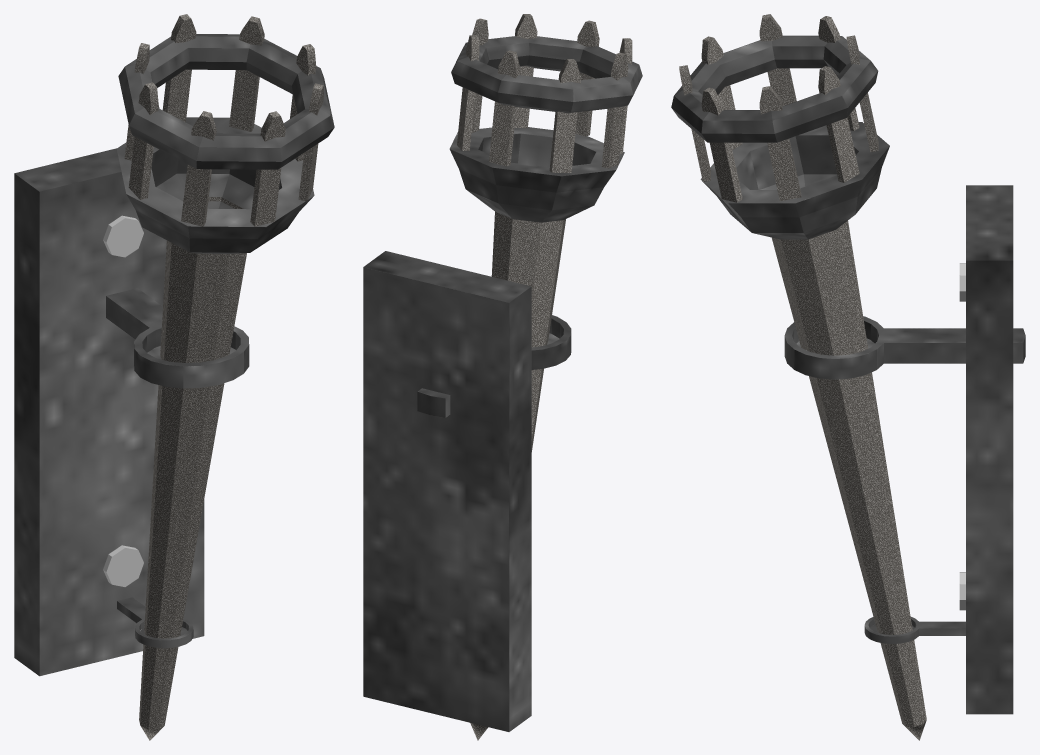
File: torch.fbx
3 views of the same model, side by side, from view 1: azimuth 30°, elevation 25°; view 2: azimuth 150°, elevation 25°; view 3: azimuth 270°, elevation 25° (orthographic). The views are drawn at different scales.
Parts seen in each view (by area): view 1: pCube19, pCylinder8, pTorus2, pCylinder9, pCube23, pCube24, pCube17, pCube25, pCube21, pCylinder11, pCylinder10, pCylinder12 (+3 smaller); view 2: pCube19, pCylinder8, pTorus2, pCylinder9, pCube21, pCube20, pCube25, pCube23, pCube17, pCube22, pCube18; view 3: pCylinder8, pCube19, pTorus2, pCylinder9, pCube18, pCube23, pCube22, pCylinder11, pCube25, pCube21, pCube24, pCube17 (+1 smaller).
Part boxes in pixels (bbox=[...]): pCube19: bbox=[14, 148, 204, 676]; pCylinder8: bbox=[116, 117, 314, 740]; pTorus2: bbox=[118, 34, 334, 169]; pCylinder9: bbox=[106, 288, 249, 388]; pCube23: bbox=[229, 16, 264, 131]; pCube24: bbox=[181, 111, 216, 226]; pCube17: bbox=[250, 111, 285, 226]; pCube25: bbox=[128, 82, 158, 199]; pCube21: bbox=[162, 14, 196, 122]; pCylinder11: bbox=[117, 597, 193, 648]; pCylinder10: bbox=[103, 215, 143, 257]; pCylinder12: bbox=[103, 545, 143, 586]; pCube19: bbox=[363, 251, 531, 731]; pCylinder8: bbox=[449, 127, 624, 740]; pTorus2: bbox=[451, 36, 642, 113]; pCylinder9: bbox=[417, 315, 571, 417]; pCube21: bbox=[489, 50, 520, 166]; pCube20: bbox=[549, 59, 580, 172]; pCube25: bbox=[601, 52, 628, 168]; pCube23: bbox=[457, 35, 479, 150]; pCube17: bbox=[575, 20, 599, 136]; pCube22: bbox=[514, 14, 537, 127]; pCube18: bbox=[471, 18, 488, 133]; pCylinder8: bbox=[700, 122, 926, 740]; pCube19: bbox=[966, 185, 1013, 714]; pTorus2: bbox=[671, 35, 878, 142]; pCylinder9: bbox=[784, 316, 1025, 379]; pCube18: bbox=[759, 86, 801, 201]; pCube23: bbox=[818, 66, 859, 182]; pCube22: bbox=[701, 87, 742, 202]; pCylinder11: bbox=[864, 617, 965, 643]; pCube25: bbox=[759, 14, 796, 106]; pCube21: bbox=[846, 35, 878, 152]; pCube24: bbox=[701, 36, 742, 149]; pCube17: bbox=[679, 65, 710, 182].
Size of the model in its own units: 36.17 by 133 by 60.77.
Materials: 1 (1 with a texture image).
